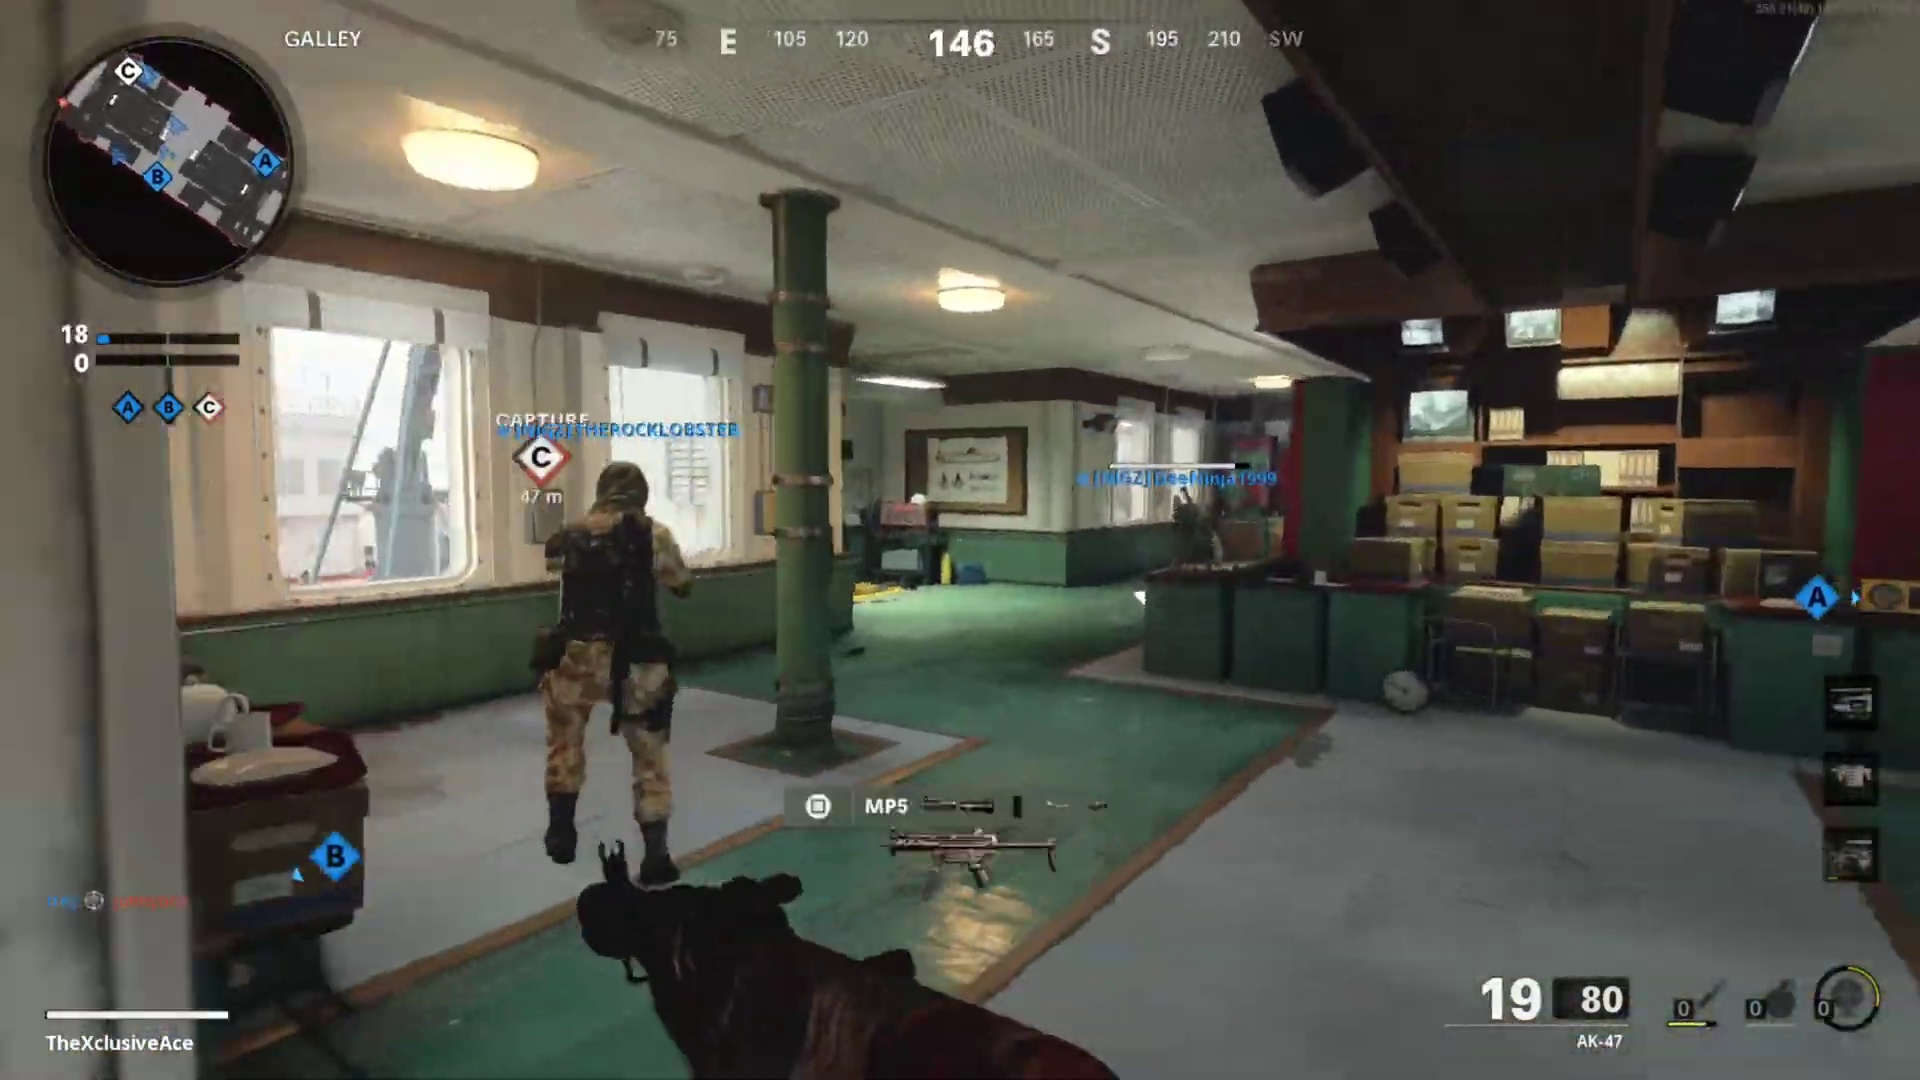head: (584, 463, 650, 537)
person: (524, 458, 694, 878), (1174, 486, 1226, 564)
